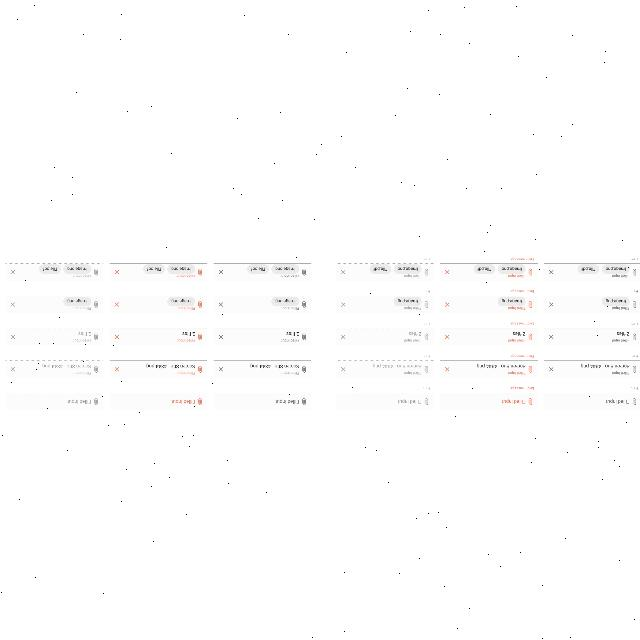VFileInput: (439, 386, 538, 412), (439, 355, 538, 379), (439, 323, 538, 347), (439, 290, 538, 314), (439, 258, 538, 282), (336, 387, 434, 411), (336, 355, 434, 379), (336, 323, 434, 347), (336, 291, 434, 315), (336, 258, 434, 282), (544, 388, 640, 412), (544, 355, 640, 379), (544, 323, 640, 347), (544, 291, 640, 315), (544, 258, 640, 282), (212, 360, 312, 380), (5, 392, 104, 412), (5, 360, 103, 380), (5, 328, 104, 347), (212, 296, 312, 314), (109, 361, 208, 379), (5, 296, 104, 314), (213, 393, 311, 411), (109, 393, 207, 411), (214, 329, 312, 347), (109, 329, 207, 347), (109, 296, 207, 314), (213, 264, 311, 282), (109, 263, 207, 281), (5, 264, 103, 282)
